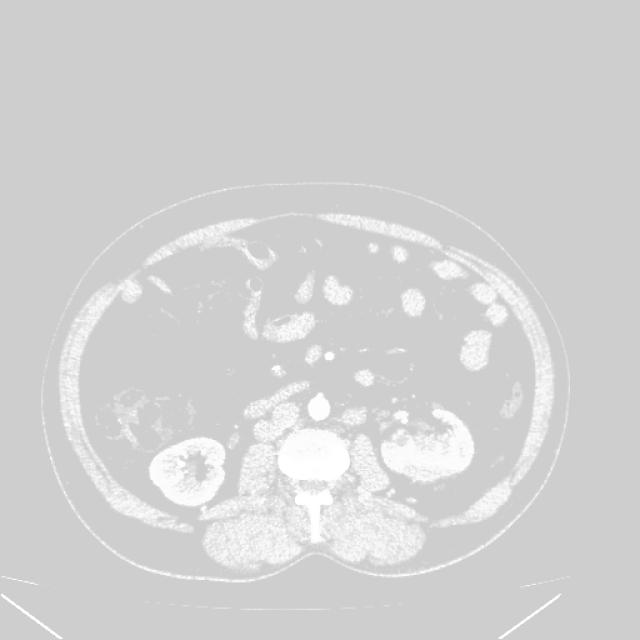TUMOR: (82, 280, 555, 436)
